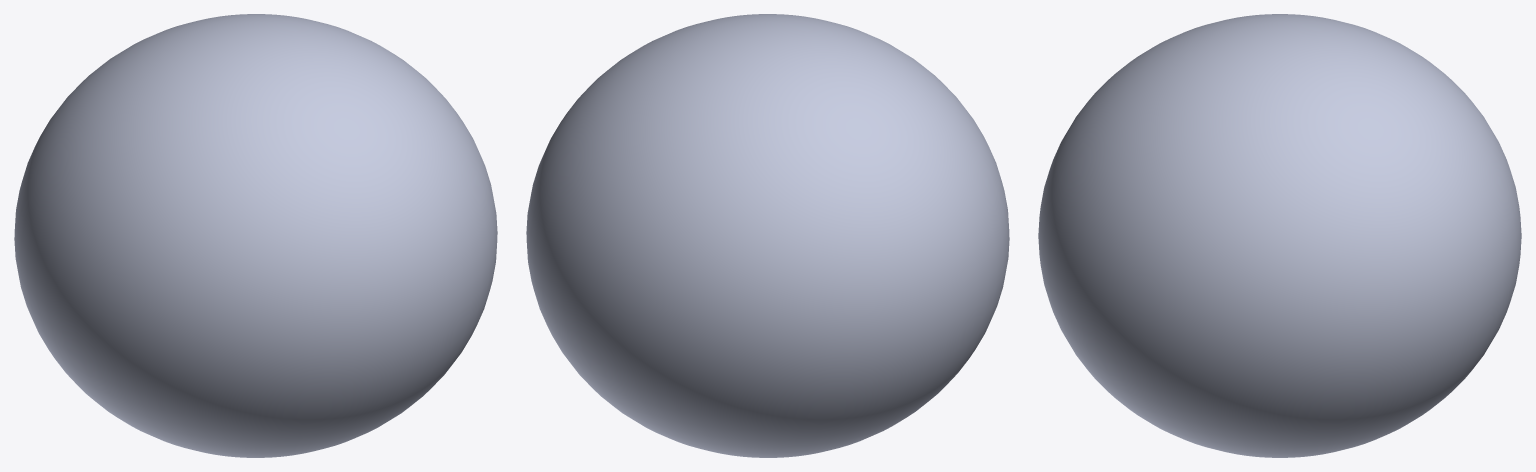
File: glass-orb.glb
3 views of the same model, side by side, from view 1: azimuth 30°, elevation 25°; view 2: azimuth 150°, elevation 25°; view 3: azimuth 270°, elevation 25° (orthographic).
Visible parts, largest first — view 1: GlassOrb; view 2: GlassOrb; view 3: GlassOrb.
Boxes of the visible parts, x1,y1,x2,y2 form: GlassOrb: (14, 14, 497, 457); GlassOrb: (526, 14, 1009, 457); GlassOrb: (1038, 14, 1521, 457).
Size of the model in its own units: 2 by 1.8 by 2.
